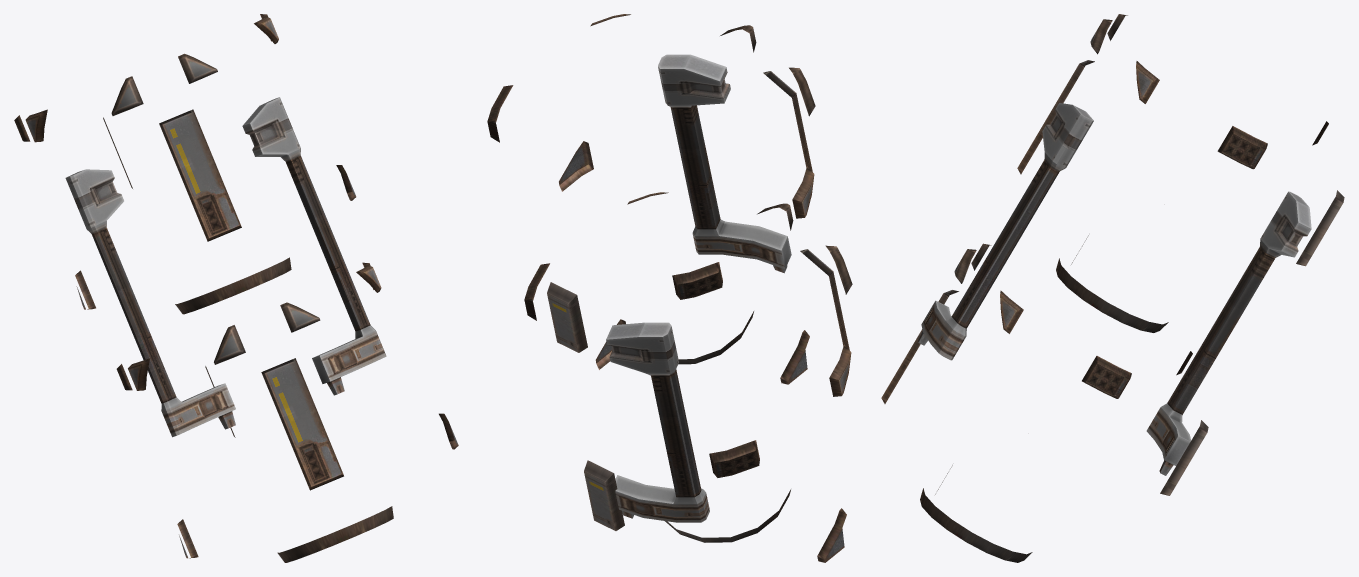
File: prop_static_generic_container_01_08.glb
3 renders of one model, left to right at view 1: azimuth 30°, elevation 25°; view 2: azimuth 150°, elevation 25°; view 3: azimuth 270°, elevation 25°, orthographic. The views are drawn at different scales.
Parts seen in each view (by area): view 1: generic_container_01_08b_LOD0; view 2: generic_container_01_08b_LOD0; view 3: generic_container_01_08b_LOD0.
Part boxes in pixels (x1,y1,x2,y2): generic_container_01_08b_LOD0: [14, 14, 458, 562]; generic_container_01_08b_LOD0: [487, 14, 852, 562]; generic_container_01_08b_LOD0: [881, 14, 1344, 562].
Size of what is drawn, in the model's own units: 1.85 by 2.84 by 2.4.
Materials: 1 (1 with a texture image).
